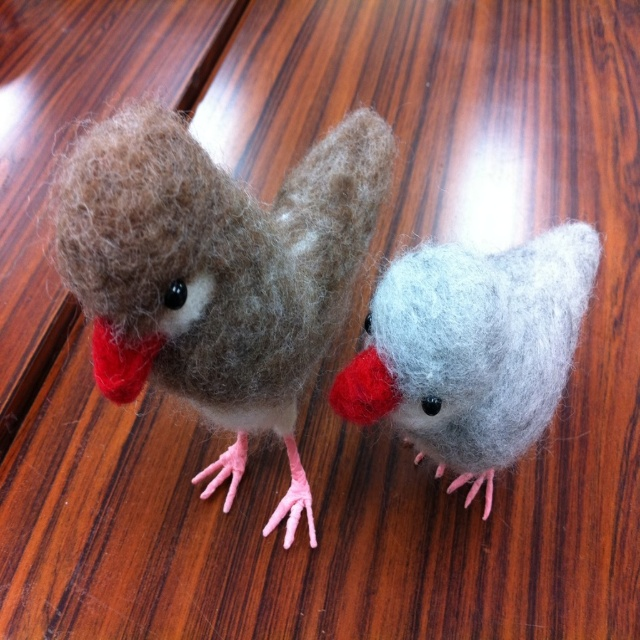Chicken: (68, 89, 372, 564)
